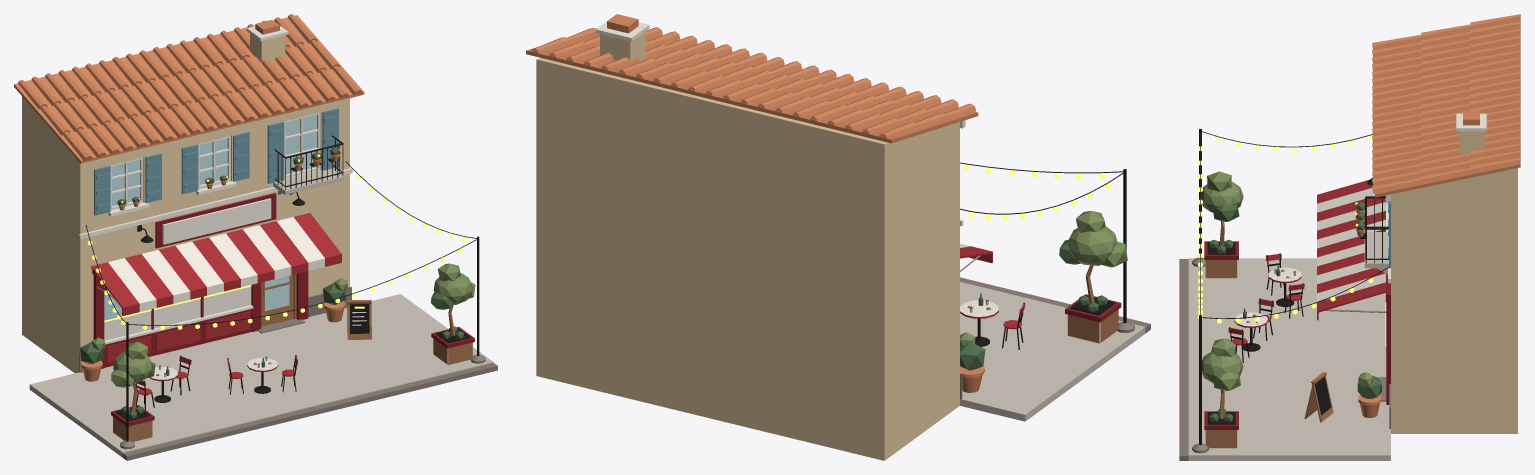
Rendered from storefront.glb.
The picture shows the model from 3 angles, left to right: view 1: azimuth 30°, elevation 25°; view 2: azimuth 150°, elevation 25°; view 3: azimuth 270°, elevation 25°; orthographic projection. The views are drawn at different scales.
Parts seen in each view (by area): view 1: storefront_static, sign, door; view 2: storefront_static; view 3: storefront_static.
Boxes of the visible parts, left/top/right/bottom form: storefront_static: left=14, top=14, right=497, bottom=460; sign: left=162, top=198, right=271, bottom=244; door: left=261, top=274, right=293, bottom=326; storefront_static: left=526, top=14, right=1150, bottom=460; storefront_static: left=1179, top=14, right=1520, bottom=460.
Bounding box in the file's own units: 11 × 7.68 × 8.06.
